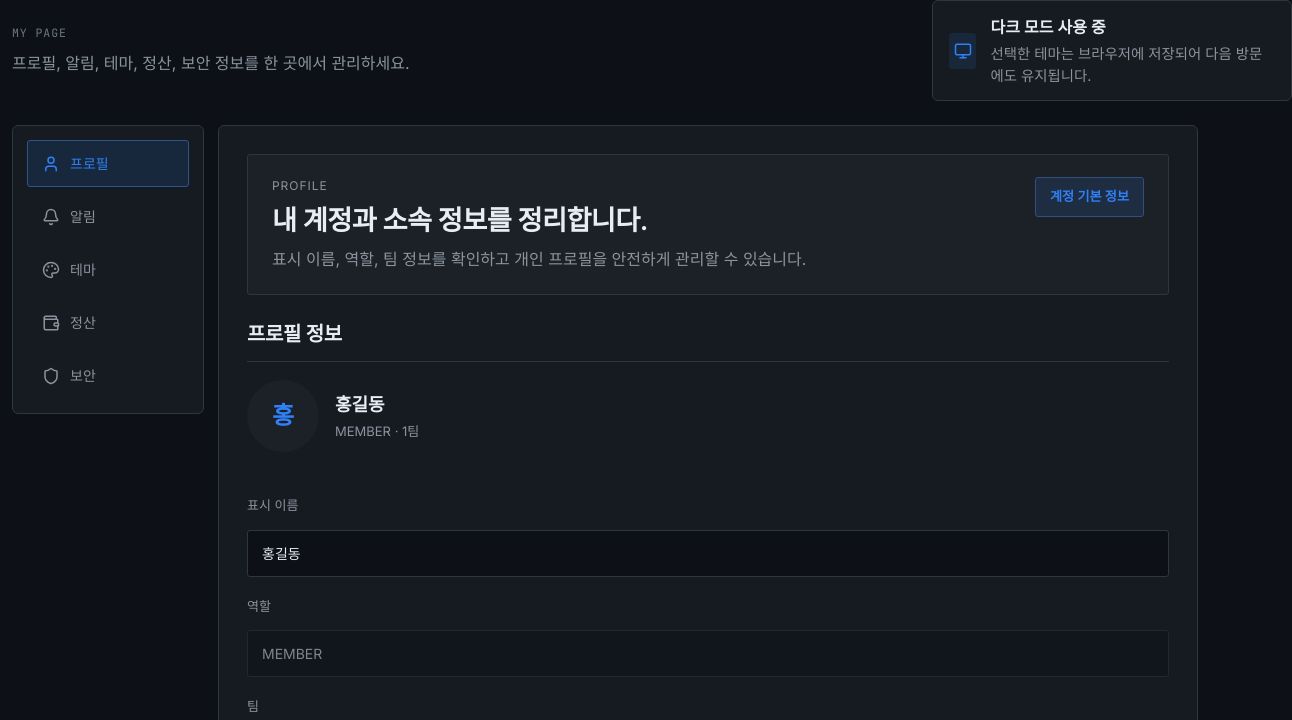
Settings 페이지 › 알림 탭 클릭 시 알림 설정이 표시된다
This screenshot has width=1292, height=720.
Click the button "알림".
click(108, 217)  # box [27,193,189,240]
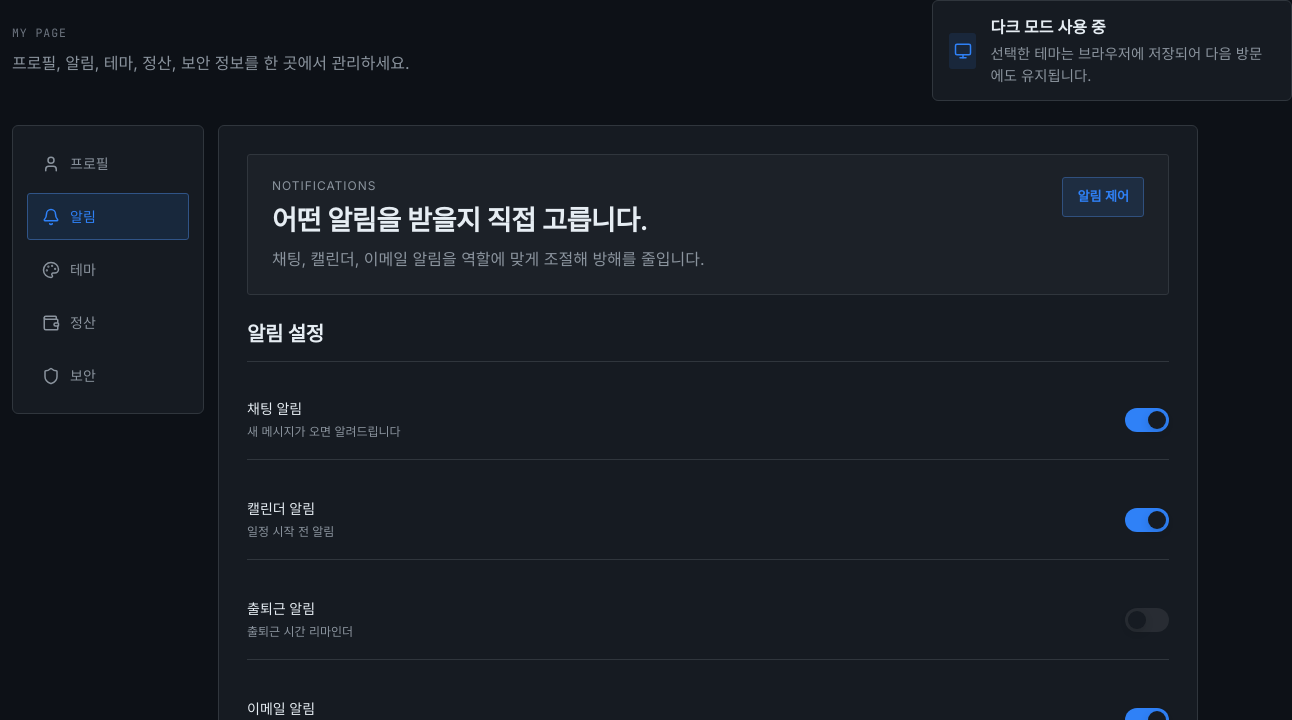
Check: the text "채팅 알림" is shown, box [247,400,302,417]
